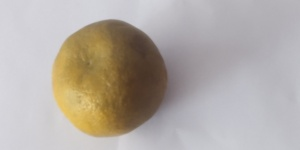BAD: (50, 19, 170, 140)
